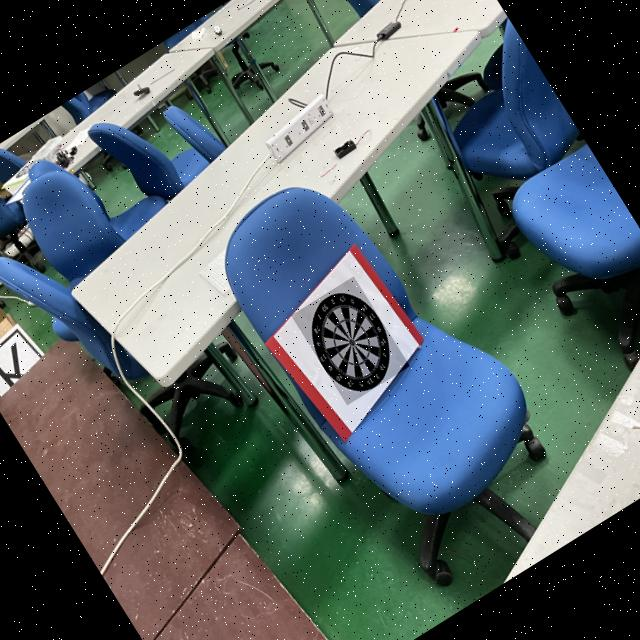archery-targets: (290, 276, 410, 405)
